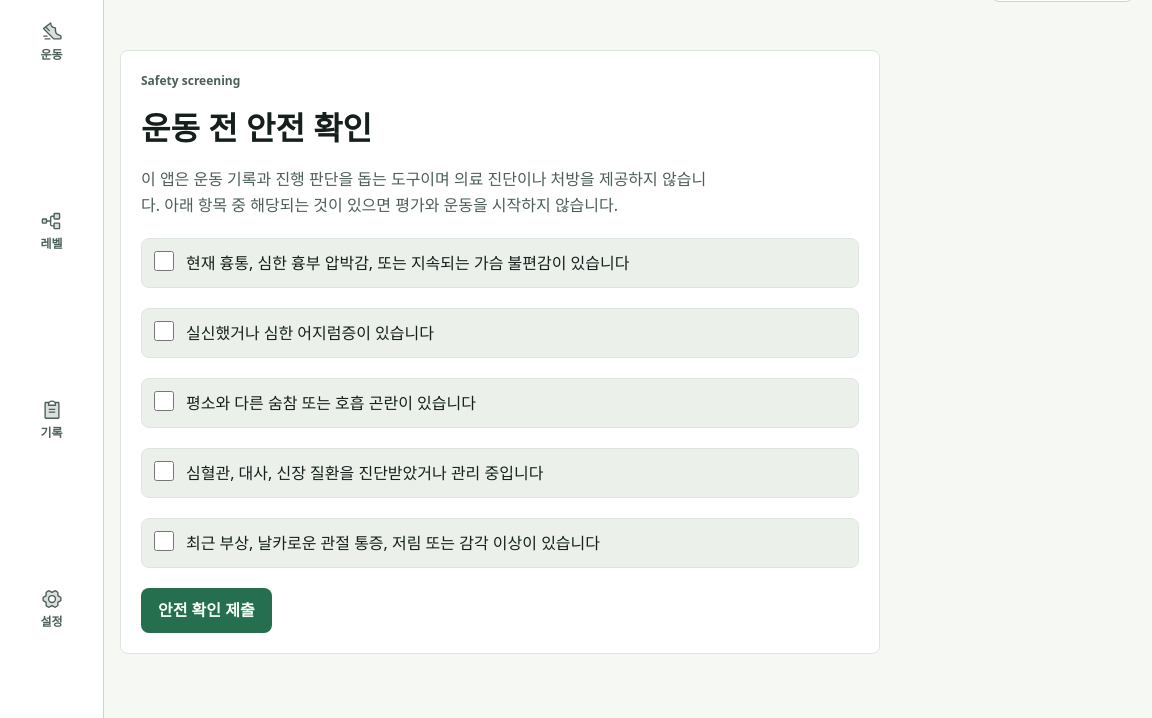
it: safety onboarding › shows a recoverable save failure notice without claiming persisted success
(page scrolled)
Click the button "안전 확인 제출": [206, 611] box [141,588,272,633]
(page scrolled)
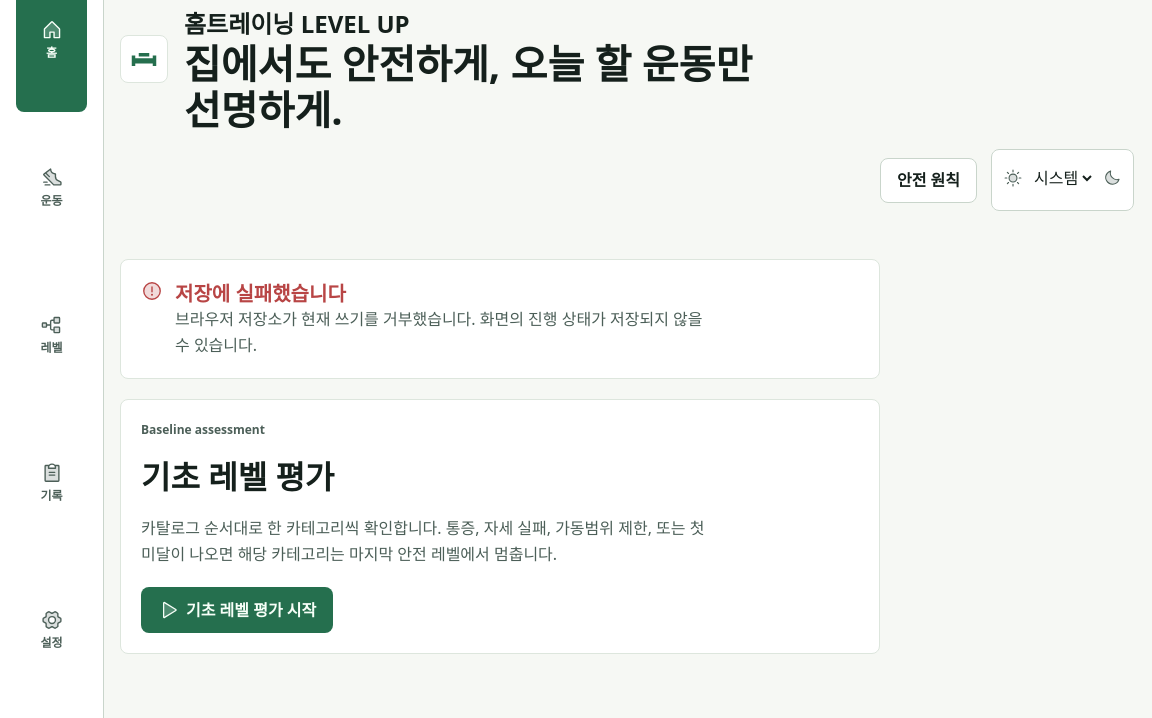
Check: the heading "저장에 실패했습니다" is shown, box [175,280,346,307]
